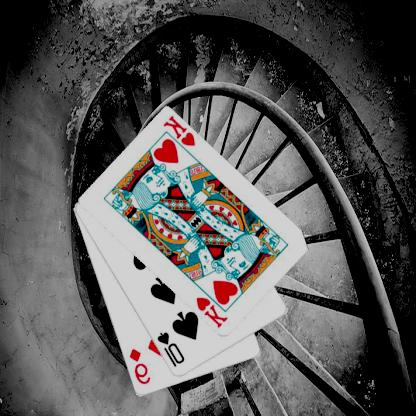10S: (156, 330, 188, 368)
6D: (128, 346, 154, 386)
KH: (195, 294, 231, 330), (162, 113, 198, 148)
